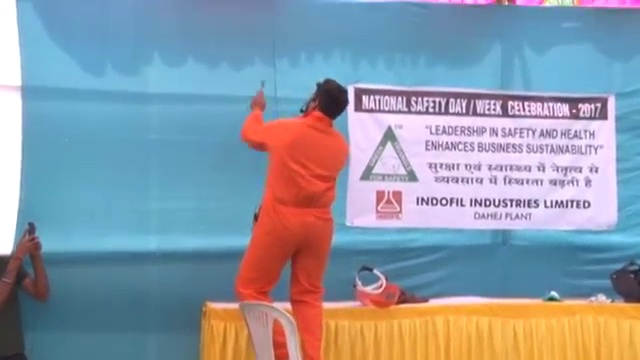helmet_off: (301, 77, 348, 124)
person: (225, 75, 355, 360), (1, 222, 48, 360)
